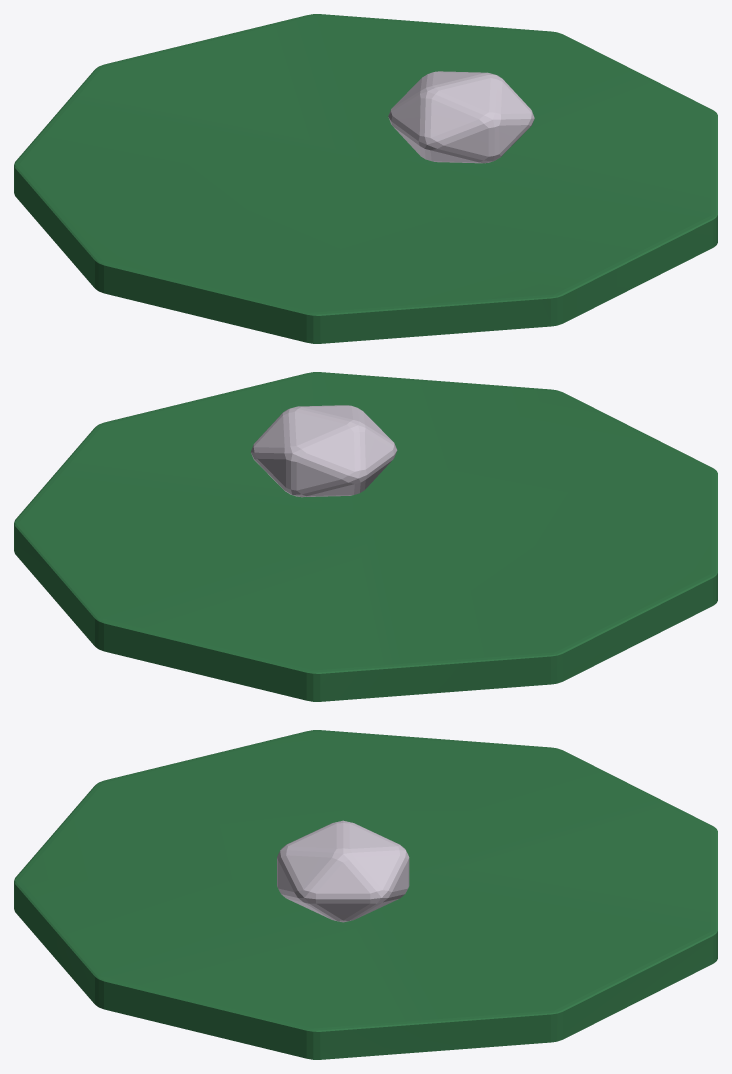
Rendered from prop_lilypad.glb.
3 renders of one model, top to bottom at view 1: azimuth 30°, elevation 25°; view 2: azimuth 150°, elevation 25°; view 3: azimuth 270°, elevation 25°, orthographic.
Visible parts, largest first — view 1: prop_lilypad_part_0; view 2: prop_lilypad_part_0; view 3: prop_lilypad_part_0.
Part boxes in pixels (x1,y1,x2,y2): prop_lilypad_part_0: (14,14,717,343); prop_lilypad_part_0: (14,372,717,701); prop_lilypad_part_0: (14,730,717,1059).
Bounding box in the file's own units: 1.08 × 0.1799 × 1.06.
